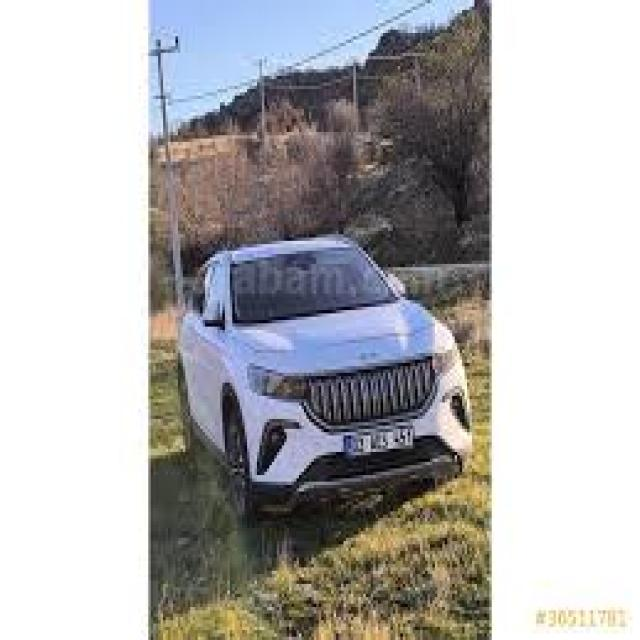car: (182, 185, 478, 550), (196, 183, 477, 525), (176, 192, 435, 516), (199, 238, 460, 526), (187, 155, 410, 471), (200, 168, 473, 420), (157, 173, 428, 307), (426, 232, 473, 468)
